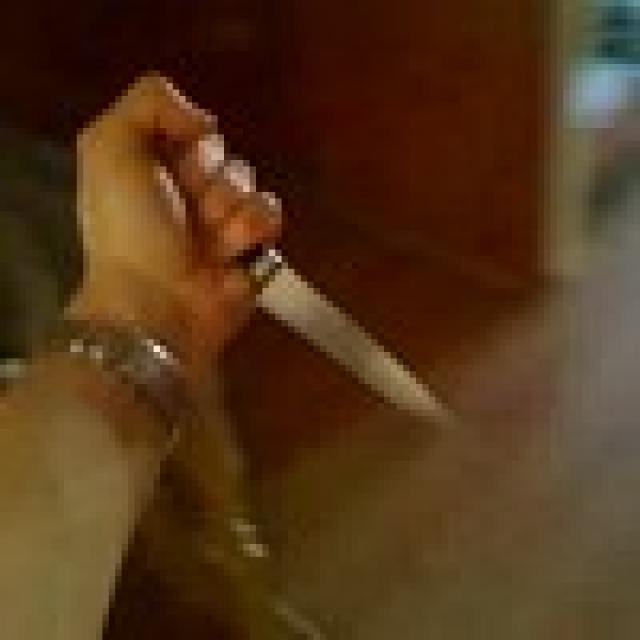knife: (106, 110, 534, 458)
